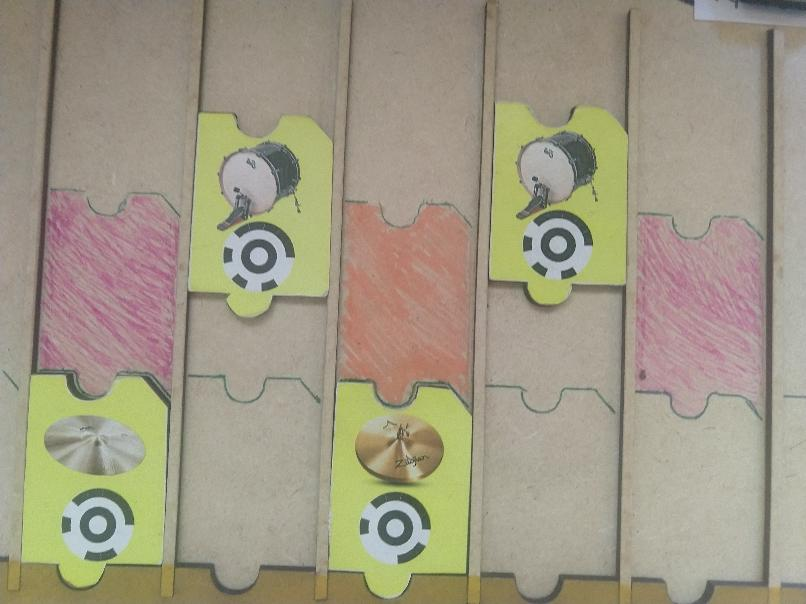bumbo: (488, 95, 632, 311), (188, 108, 331, 320)
